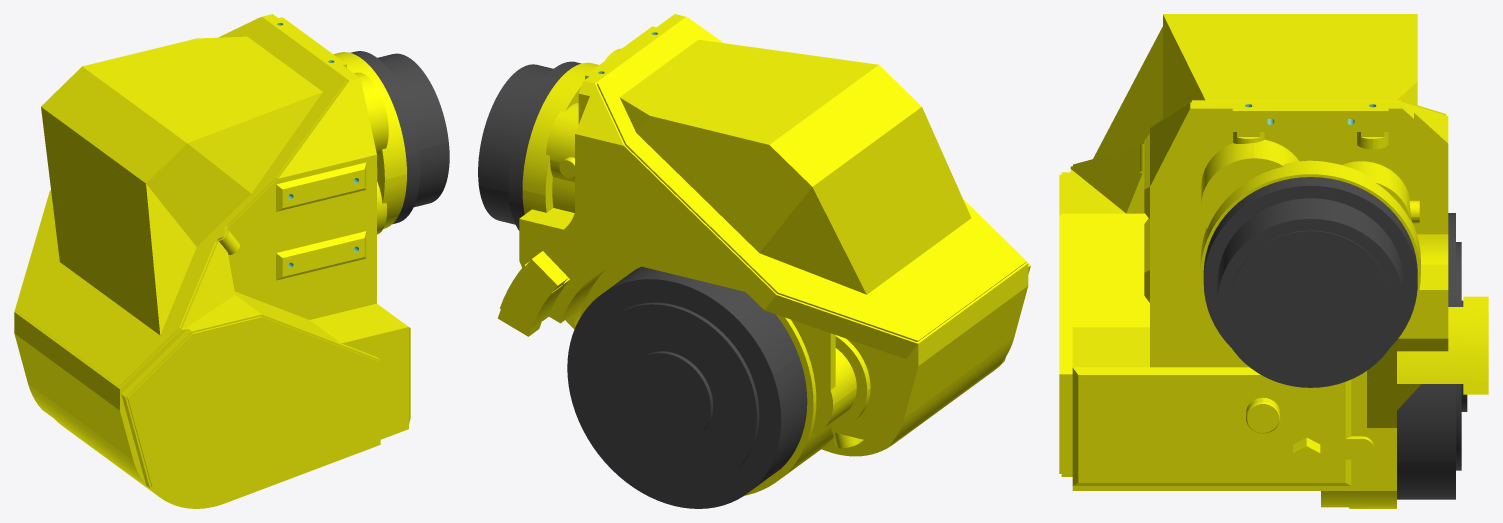
3 views of the same model, side by side, from view 1: azimuth 30°, elevation 25°; view 2: azimuth 150°, elevation 25°; view 3: azimuth 270°, elevation 25° (orthographic). The views are drawn at different scales.
Visible parts, largest first — view 1: Mesh_0; view 2: Mesh_0; view 3: Mesh_0.
Part boxes in pixels (bbox=[...]): Mesh_0: bbox=[14, 14, 449, 508]; Mesh_0: bbox=[478, 14, 1030, 508]; Mesh_0: bbox=[1059, 14, 1488, 508].
Size of the model in its own units: 0.4767 by 0.374 by 0.4335.
